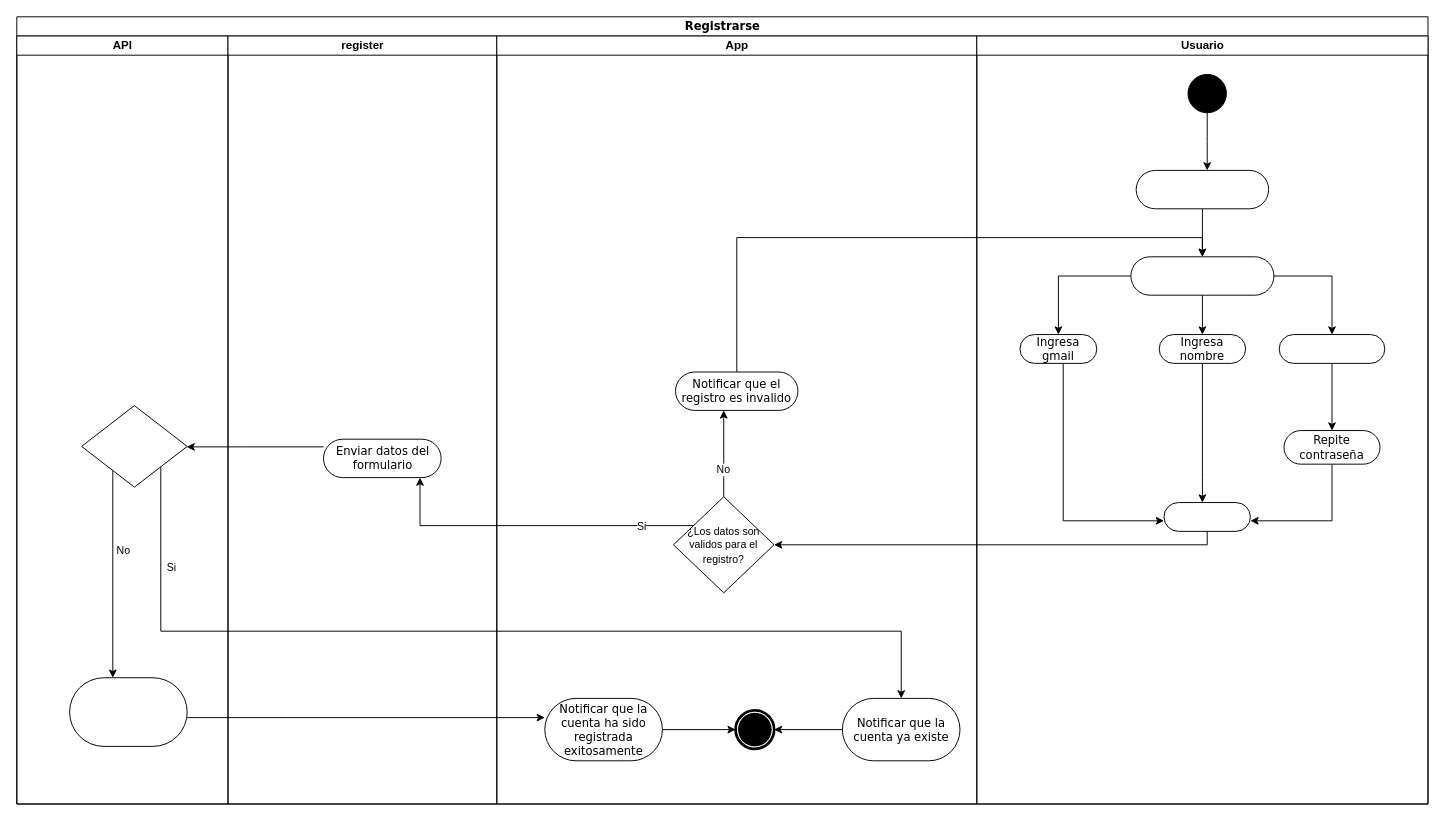
Some shapes in this 1445 by 821 pixel diagram are drawn without their labels. Each missing label, with the centre of its shape:
"Confirmar registro" belongs at (1206,516).
"Entra a la pagina de registro" belongs at (1202,189).
"Guardar datos del usuario en la base de datos" belongs at (128,711).
"Ingresa contaseña" belongs at (1331,348).
"Rellenar formulario de registro" belongs at (1202,275).
"¿Ya existe ese usuario?" belongs at (134,446).
